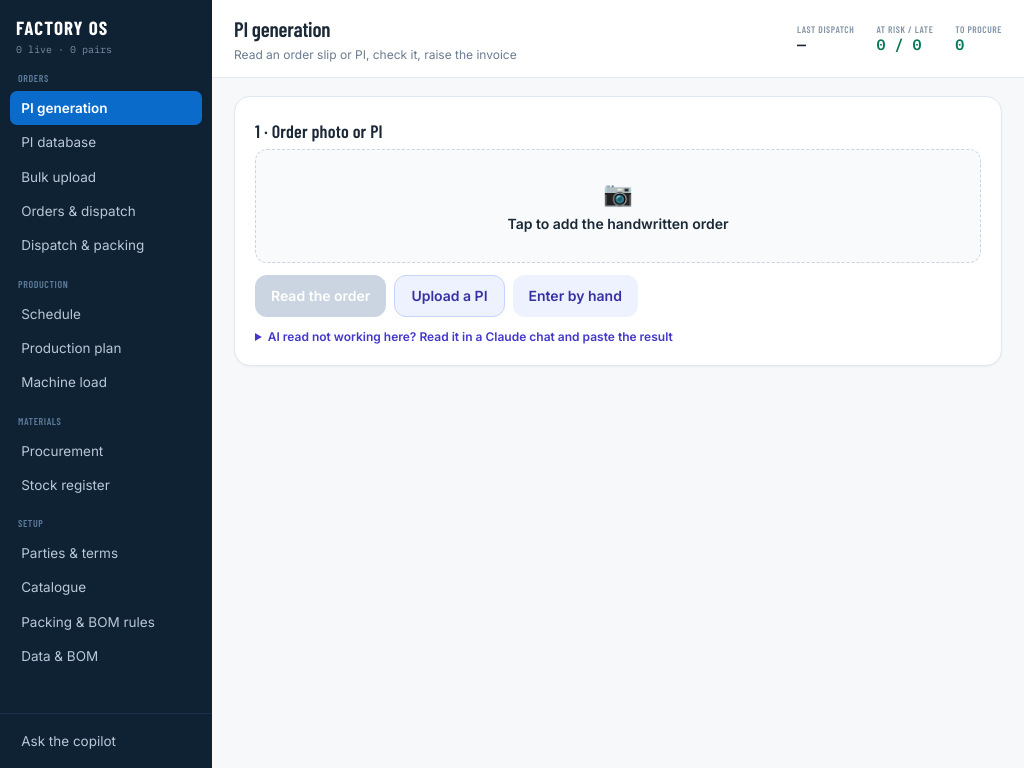
Scenario: critical UI contracts › keeps a PI draft mounted while the clerk visits another tab
Click the button "Enter by hand" at (575, 296), box [512,274,638,316]
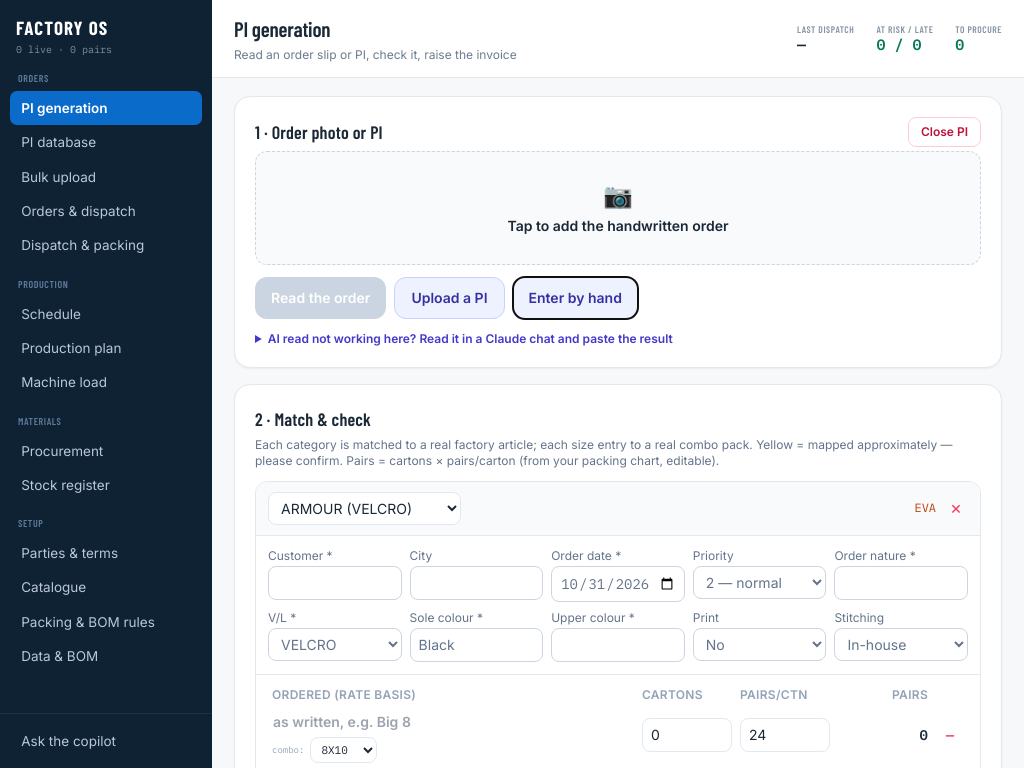
Expected: the text "2 · Match & check" is shown, [255,408,371,430]
Click the button "Bulk upload" at (106, 177), box [10,160,202,194]
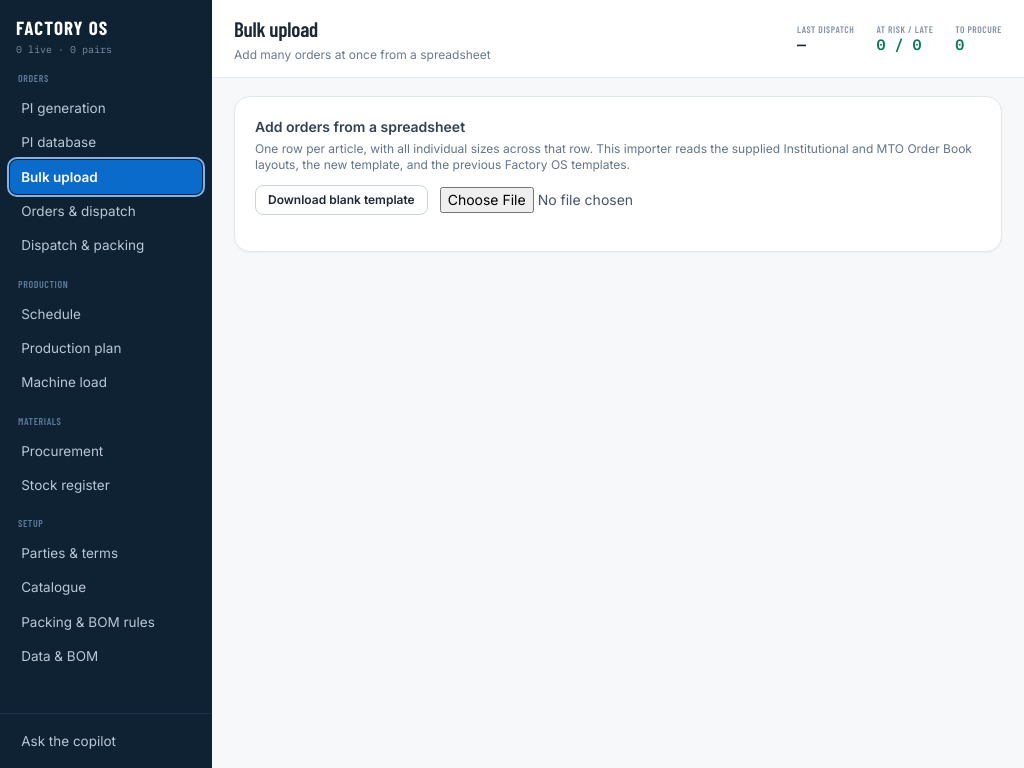
Expected: the text "Add orders from a spreadsheet" is shown, [255,118,465,134]
Click the button "PI generation" at (106, 108), box [10,91,202,125]
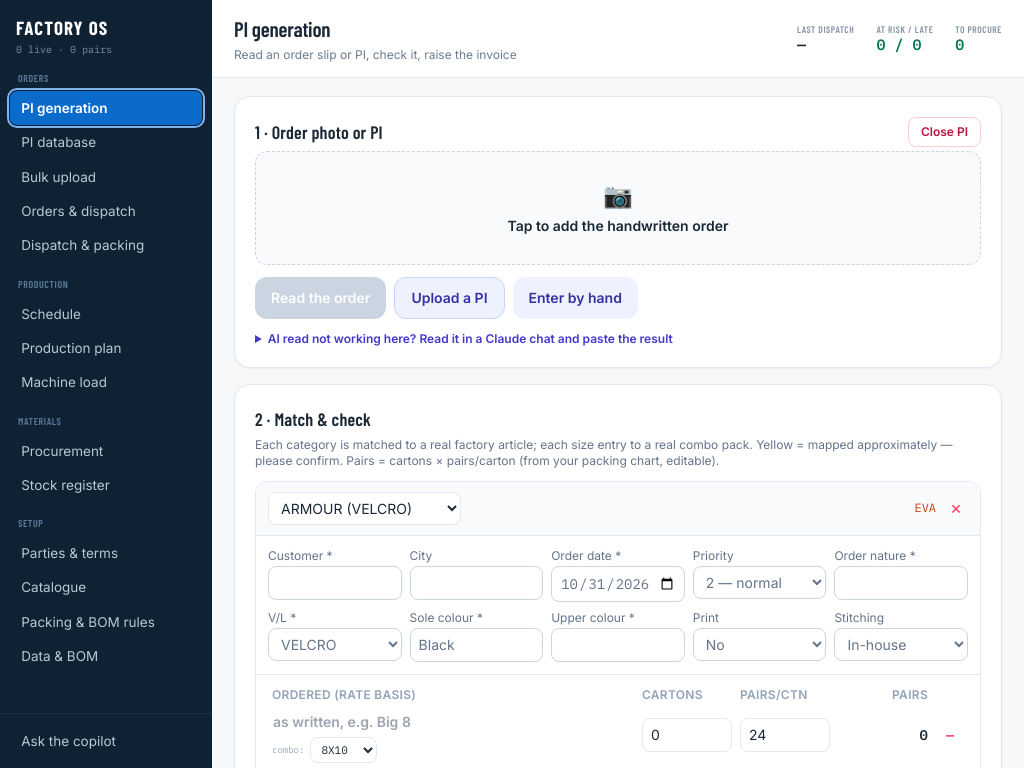
Expected: the text "2 · Match & check" is shown, [255,408,371,430]
